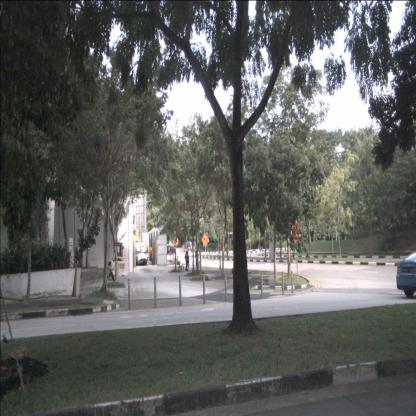barrier: (110, 261, 129, 276), (175, 248, 180, 254), (179, 248, 184, 254)
